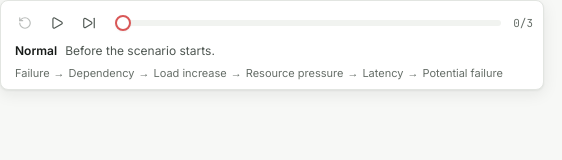
Test: SimulationPlayback › steps, scrubs and resets through the backend timeline
Expected: the message reads "Normal", [15, 43, 57, 58]
Expected: the button named "Reset" is disabled, [11, 9, 39, 37]
Click the button named "Step" at (89, 23), box [75, 9, 103, 37]
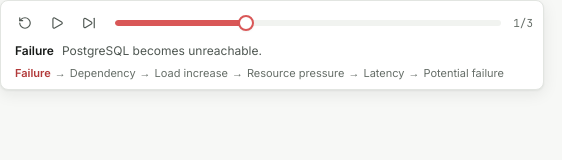
Expected: the text "Failure" is shown, [15, 65, 51, 81]
Result: the message reads "Failure" at [15, 43, 54, 58]
Result: the text "PostgreSQL becomes unreachable." is shown at [62, 43, 262, 59]
Note: Scrub with the keyboard, like a user on the slider thumb: End jumps to the last step.
Press End in the slider named "Simulation timeline", box [238, 15, 254, 31]
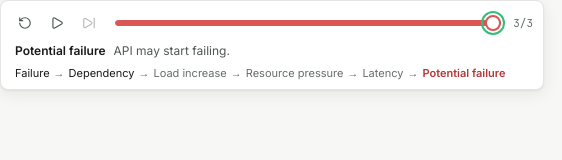
Result: the message reads "Potential failure" at [15, 43, 106, 58]
Result: the button named "Step" is disabled at [75, 9, 103, 37]
Click the button named "Reset" at (25, 23), box [11, 9, 39, 37]
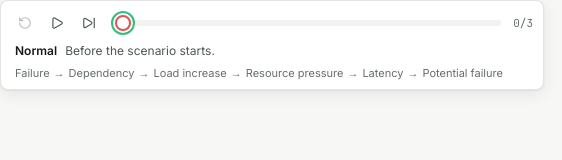
Result: the message reads "Normal" at [15, 43, 57, 58]
